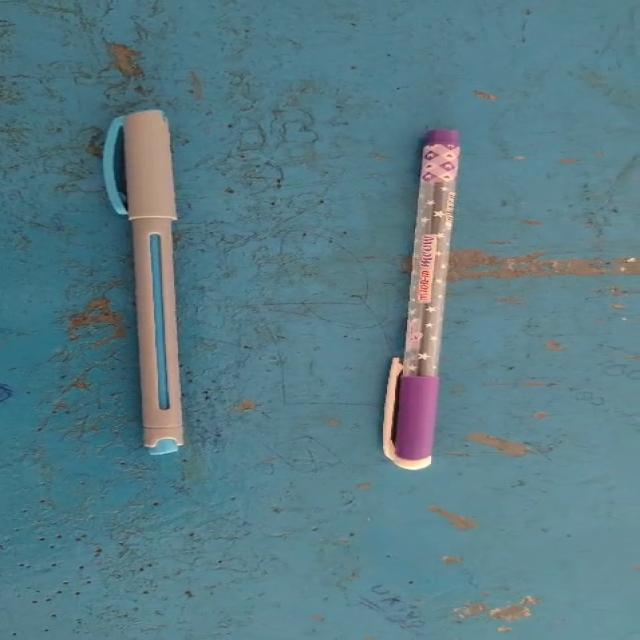pen: (48, 102, 264, 479), (346, 120, 525, 488)
